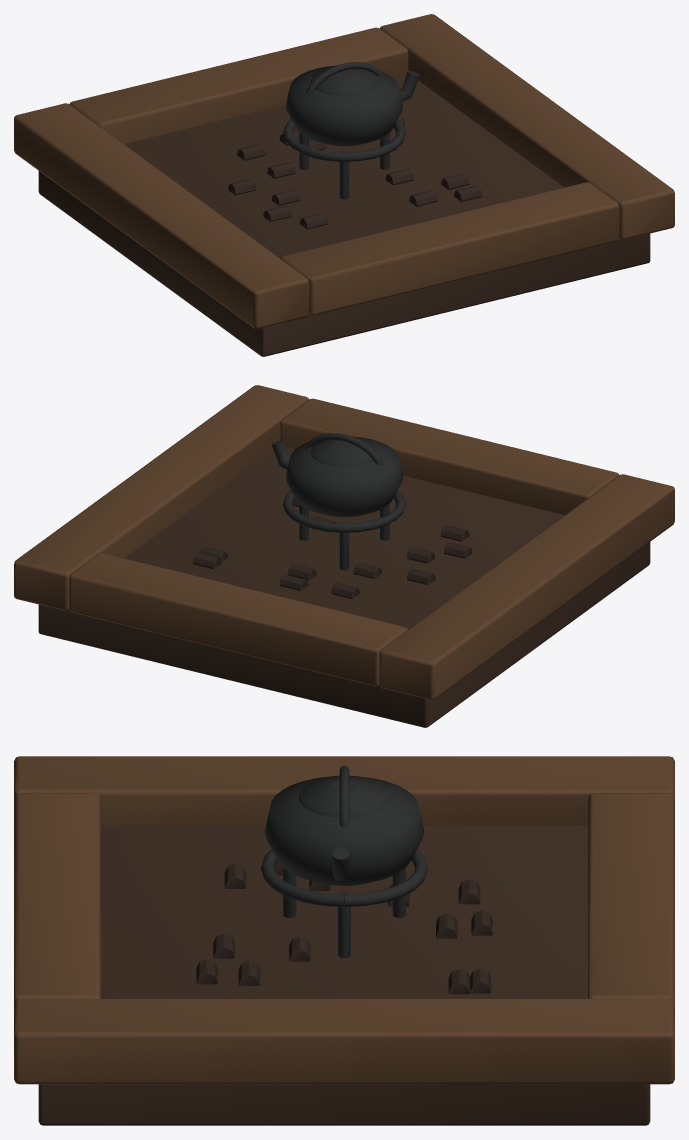
The model's file is kominka-irori-01.glb.
3 renders of one model, top to bottom at view 1: azimuth 30°, elevation 25°; view 2: azimuth 150°, elevation 25°; view 3: azimuth 270°, elevation 25°, orthographic. The views are drawn at different scales.
Parts seen in each view (by area): view 1: kominka-irori-01; view 2: kominka-irori-01; view 3: kominka-irori-01.
Boxes of the visible parts, left/top/right/bottom form: kominka-irori-01: left=14, top=14, right=674, bottom=356; kominka-irori-01: left=14, top=385, right=674, bottom=727; kominka-irori-01: left=14, top=756, right=674, bottom=1125.
Size of the model in its own units: 1.2 by 0.45 by 1.2.
